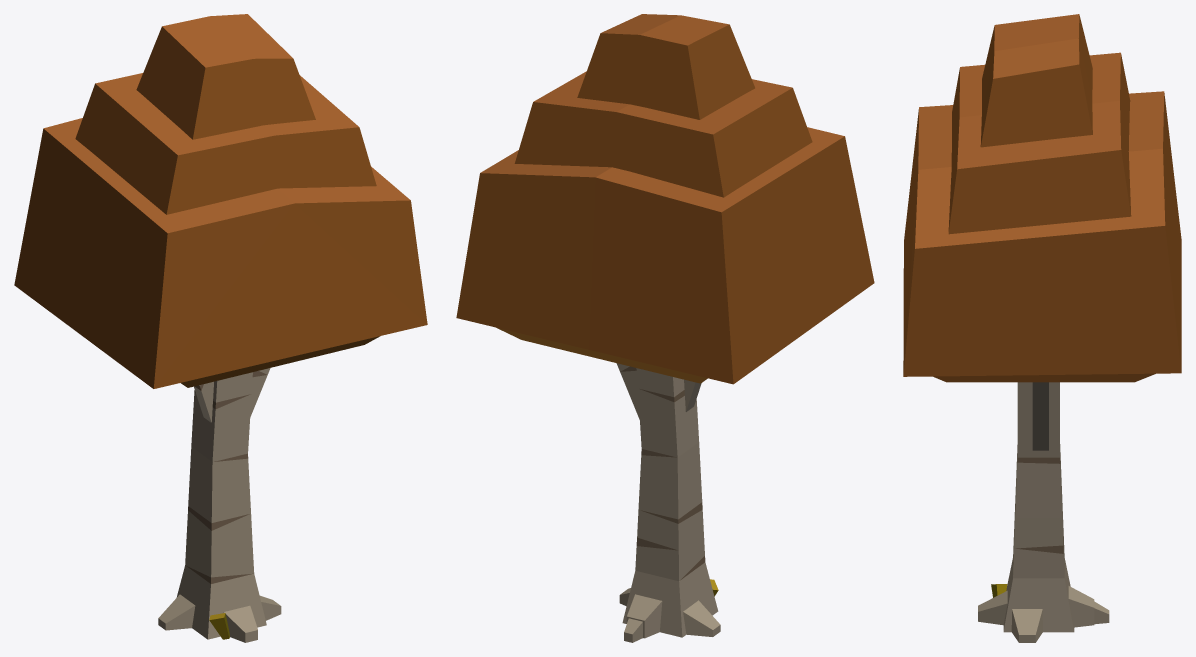
The model's file is SF_Env_Tree_03.fbx.
3 renders of one model, left to right at view 1: azimuth 30°, elevation 25°; view 2: azimuth 150°, elevation 25°; view 3: azimuth 270°, elevation 25°, orthographic.
Parts seen in each view (by area): view 1: SF_Prop_Tree_03; view 2: SF_Prop_Tree_03; view 3: SF_Prop_Tree_03.
Boxes of the visible parts, x1,y1,x2,y2 form: SF_Prop_Tree_03: [14, 14, 427, 642]; SF_Prop_Tree_03: [456, 14, 874, 642]; SF_Prop_Tree_03: [903, 14, 1181, 642].
Bounding box in the file's own units: 3.53 × 7.26 × 3.11.
